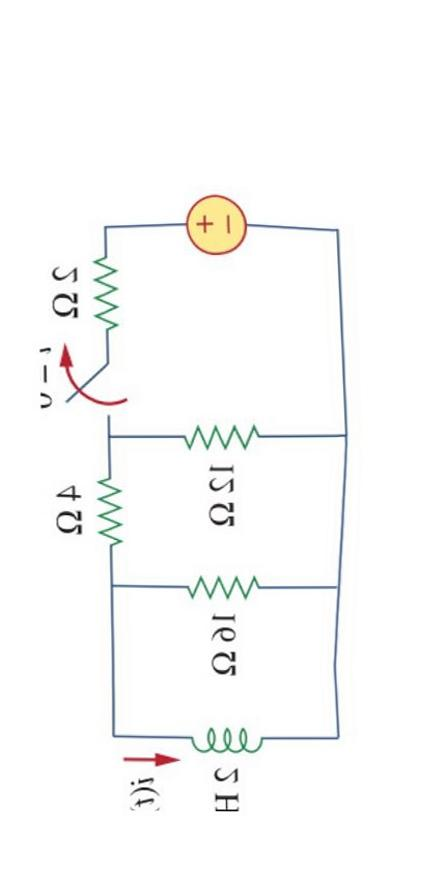Battery: (159, 171, 270, 274)
